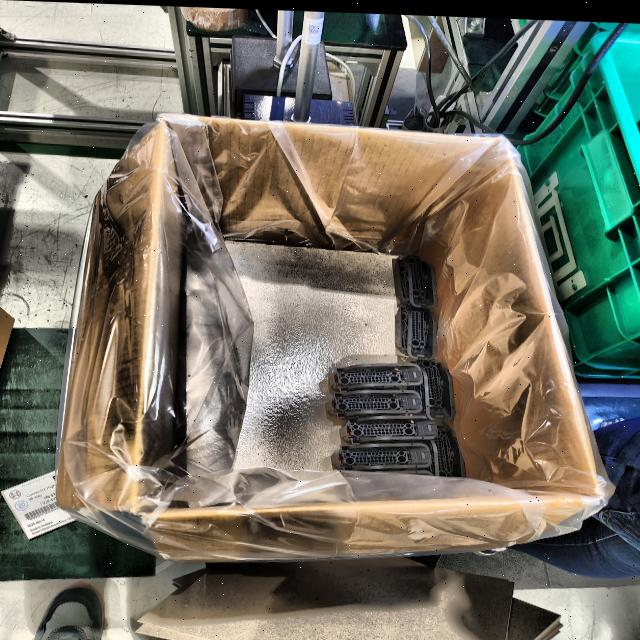P38: (326, 386, 425, 416), (340, 412, 438, 442), (330, 360, 424, 390), (331, 440, 433, 467), (410, 357, 455, 418), (395, 302, 438, 357), (394, 252, 438, 305), (429, 418, 466, 474), (369, 467, 434, 473)
